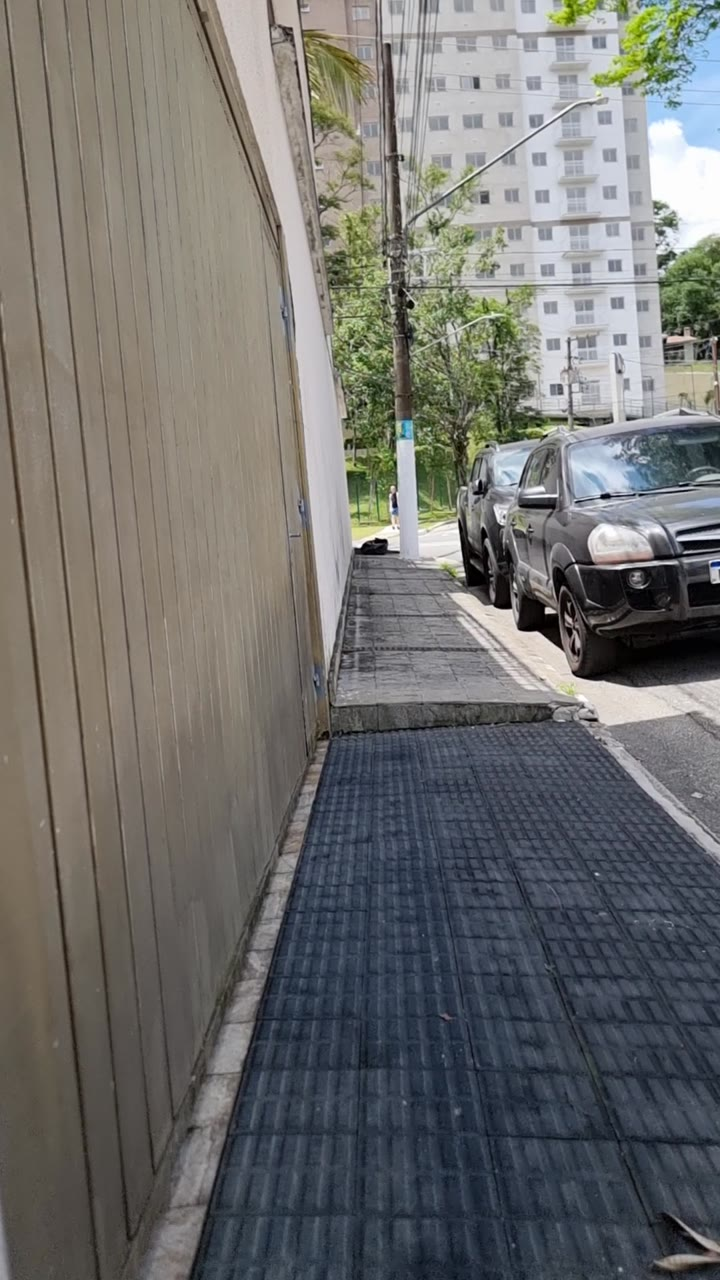obstaculo: (382, 0, 418, 576)
